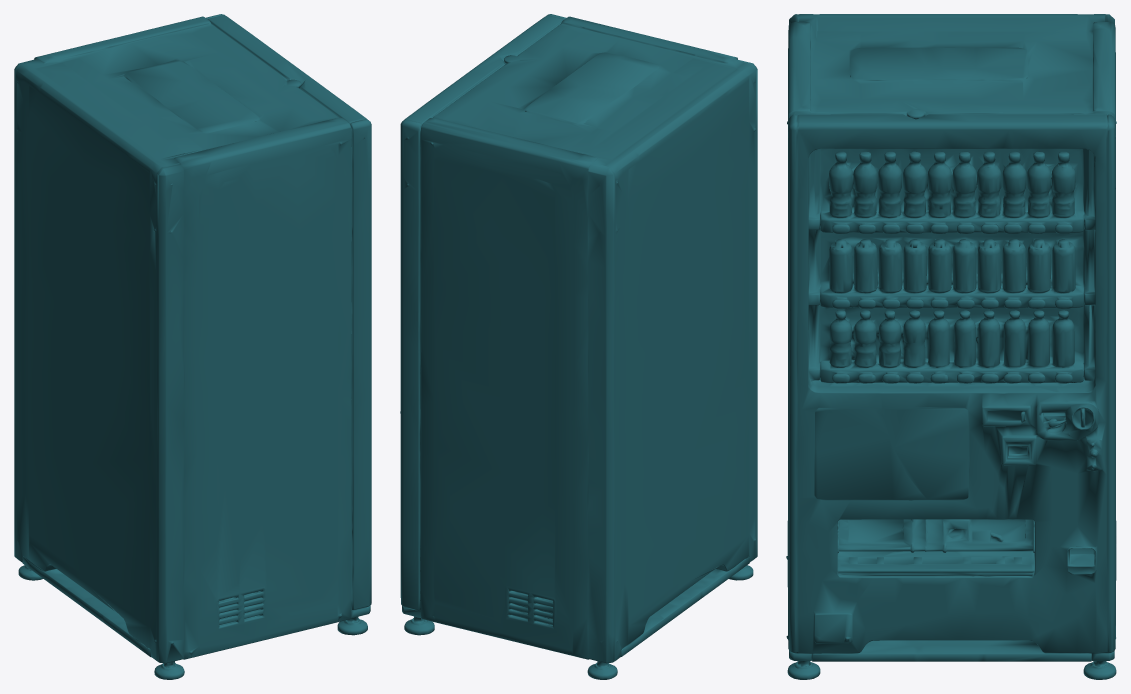
The model's file is gen-vending-machine-drinks-1.glb.
3 views of the same model, side by side, from view 1: azimuth 30°, elevation 25°; view 2: azimuth 150°, elevation 25°; view 3: azimuth 270°, elevation 25° (orthographic). The views are drawn at different scales.
Visible parts, largest first — view 1: gen-vending-machine-drinks-1_part1; view 2: gen-vending-machine-drinks-1_part1; view 3: gen-vending-machine-drinks-1_part1.
Part boxes in pixels (box(x1,y1,x2,y2)): gen-vending-machine-drinks-1_part1: box(14, 14, 371, 679); gen-vending-machine-drinks-1_part1: box(400, 14, 757, 679); gen-vending-machine-drinks-1_part1: box(786, 14, 1116, 679).
Bounding box in the file's own units: 823 × 1830 × 981.
